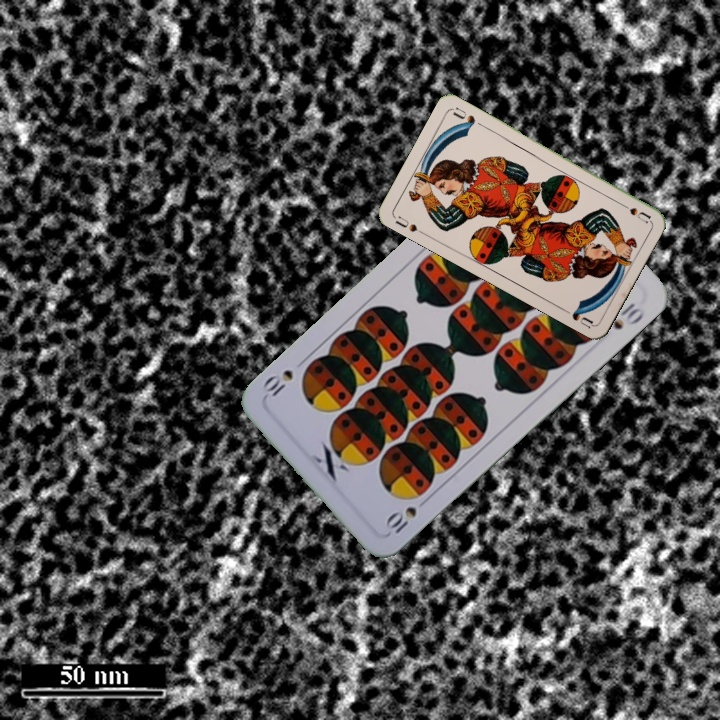S10: (381, 502, 420, 538)
SU: (614, 198, 653, 226), (391, 212, 428, 237)
